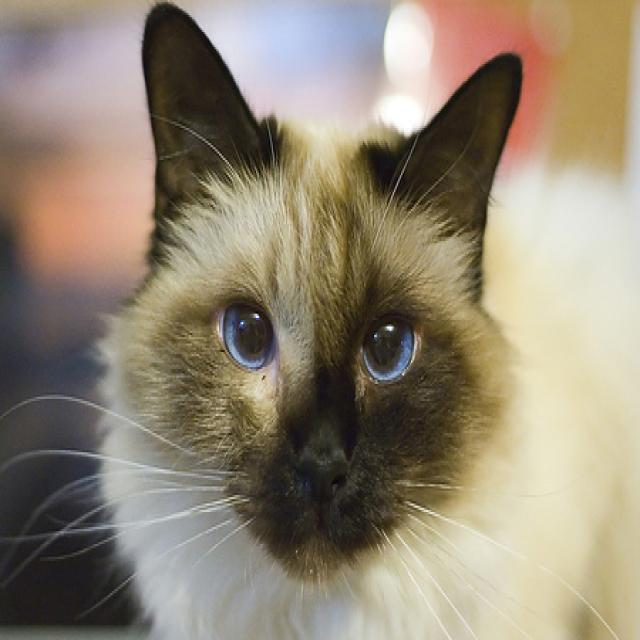Birman: (92, 0, 539, 640)
